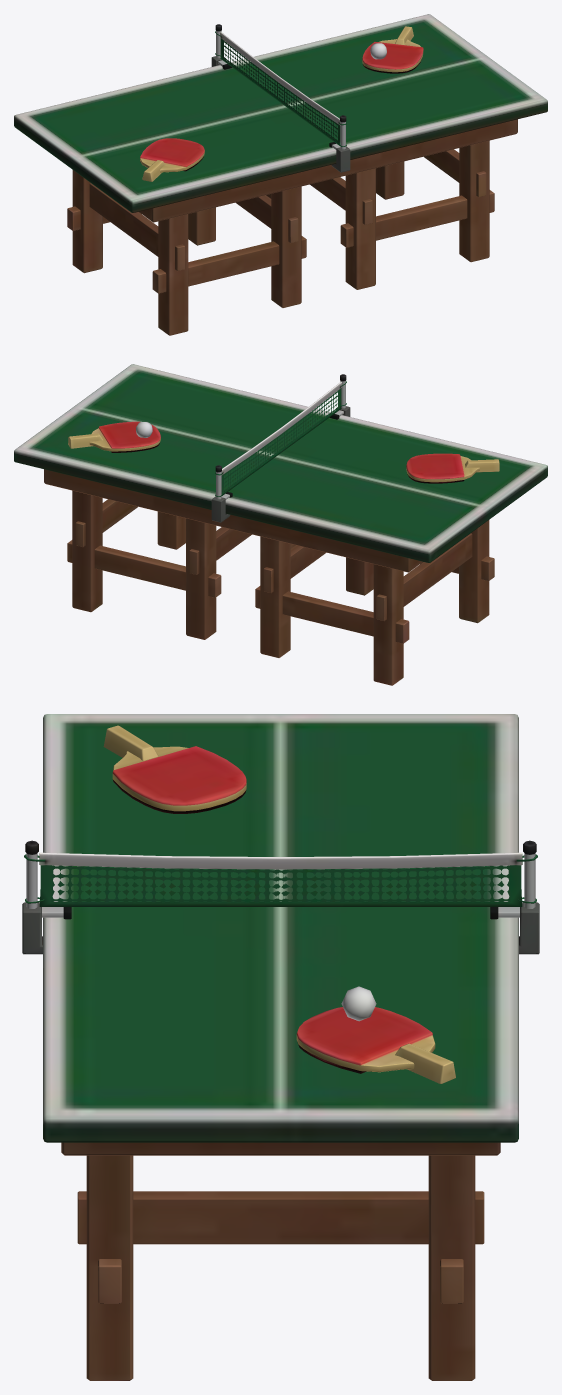
The picture shows the model from 3 angles, top to bottom: view 1: azimuth 30°, elevation 25°; view 2: azimuth 150°, elevation 25°; view 3: azimuth 270°, elevation 25°; orthographic projection. The views are drawn at different scales.
Size of the model in its own units: 17.99 by 7.89 by 9.68.
2 materials, 2 textured.
